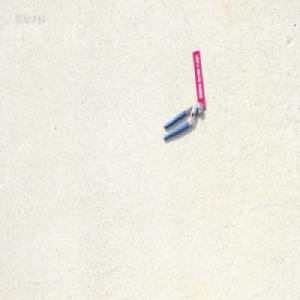Label: (193, 48, 206, 108)
Pliers: (162, 101, 203, 140)
